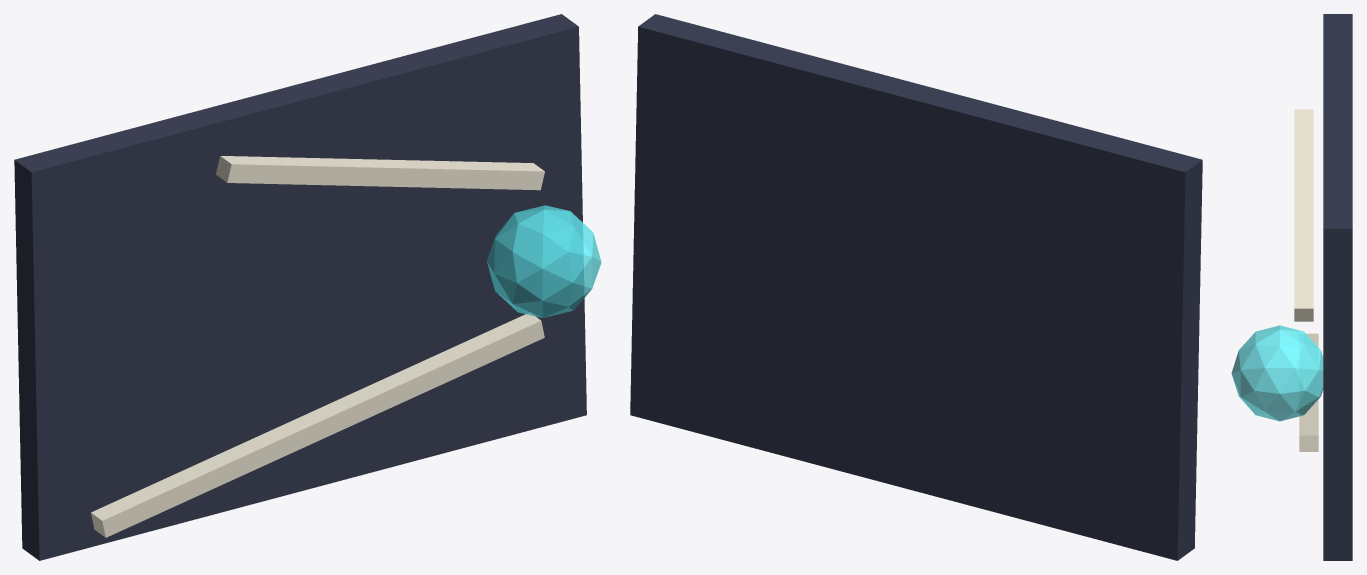
File: 02_world_prop_polish.glb
3 views of the same model, side by side, from view 1: azimuth 30°, elevation 25°; view 2: azimuth 150°, elevation 25°; view 3: azimuth 270°, elevation 25° (orthographic). The views are drawn at different scales.
Visible parts, largest first — view 1: object_overlay_plate, edge_wear_a, glow_socket, edge_wear_b; view 2: object_overlay_plate; view 3: object_overlay_plate, glow_socket, edge_wear_b, edge_wear_a.
Boxes of the visible parts, x1=… form: object_overlay_plate: x1=14, y1=14, x2=586, y2=560; edge_wear_a: x1=91, y1=313, x2=544, y2=537; glow_socket: x1=487, y1=205, x2=601, y2=317; edge_wear_b: x1=216, y1=156, x2=544, y2=190; object_overlay_plate: x1=630, y1=14, x2=1202, y2=560; object_overlay_plate: x1=1323, y1=14, x2=1352, y2=560; glow_socket: x1=1231, y1=325, x2=1323, y2=421; edge_wear_b: x1=1294, y1=109, x2=1313, y2=321; edge_wear_a: x1=1299, y1=333, x2=1318, y2=451.
Size of the model in its own units: 1.12 by 0.7733 by 0.25.
